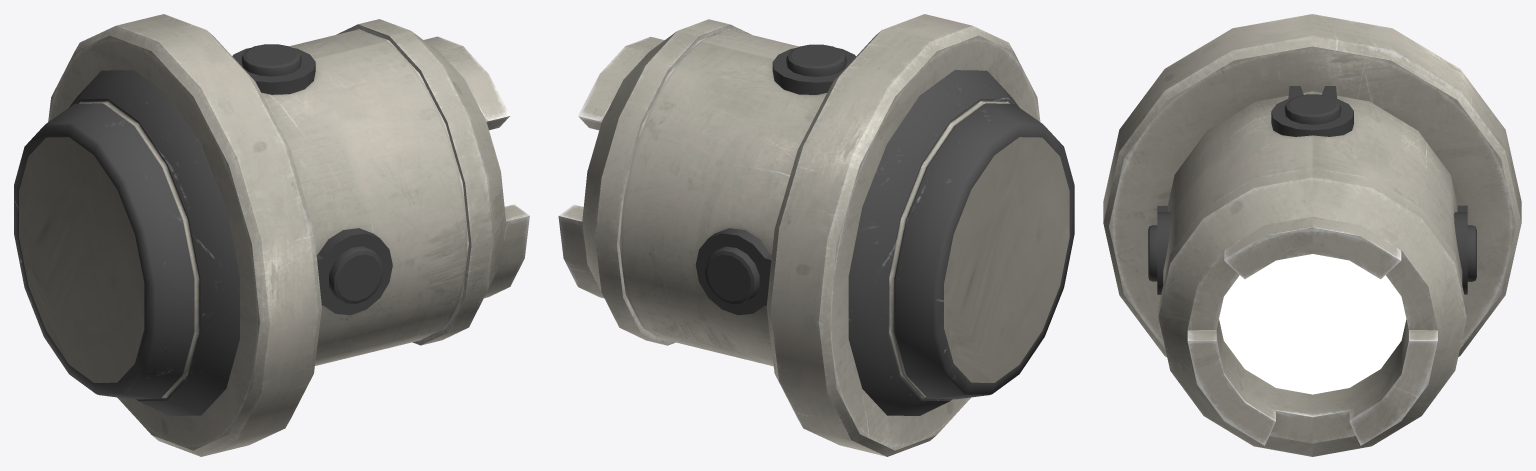
File: guard_2_c_d.glb
3 renders of one model, left to right at view 1: azimuth 30°, elevation 25°; view 2: azimuth 150°, elevation 25°; view 3: azimuth 270°, elevation 25°, orthographic. The views are drawn at different scales.
Visible parts, largest first — view 1: guard_2_c_d_lod0; view 2: guard_2_c_d_lod0; view 3: guard_2_c_d_lod0.
Part boxes in pixels (x1,y1,x2,y2): guard_2_c_d_lod0: (14,14,529,456); guard_2_c_d_lod0: (558,14,1074,456); guard_2_c_d_lod0: (1103,14,1521,456).
Size of what is drawn, in the model's own units: 0.047 by 0.047 by 0.0475.
Materials: 1 (1 with a texture image).
